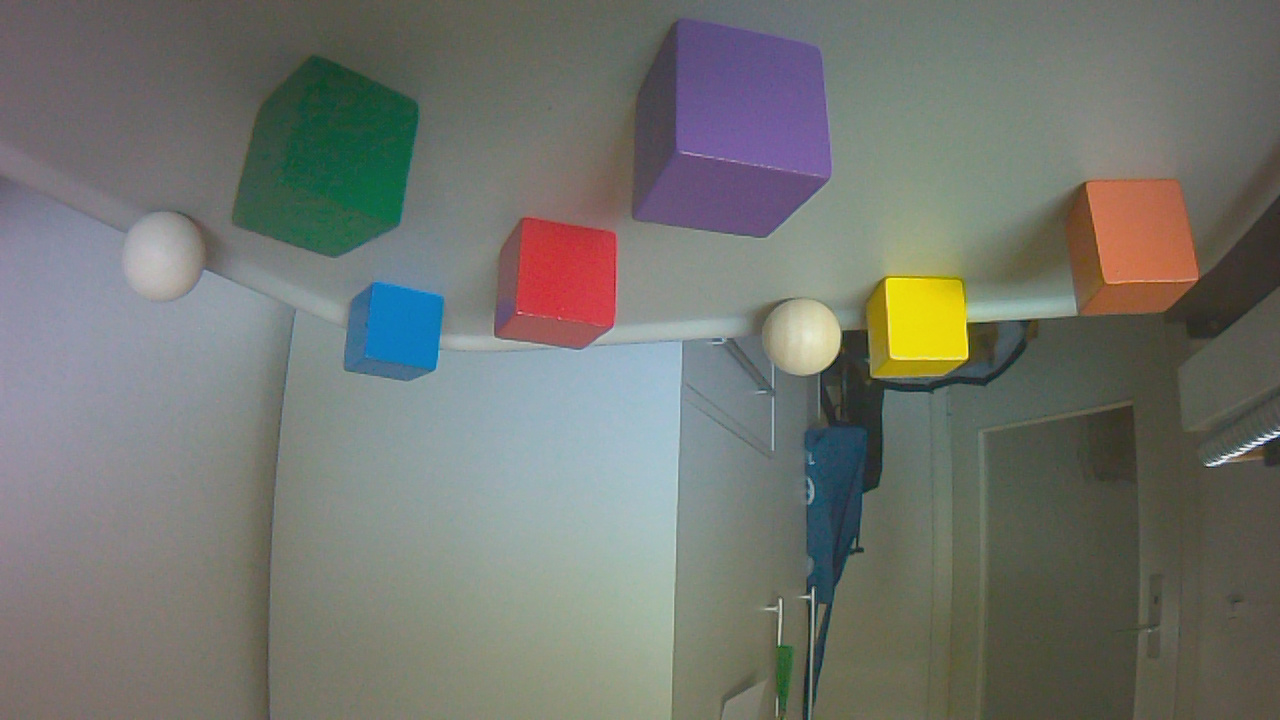ball: (124, 214, 213, 309), (764, 300, 847, 384)
cube_blue: (346, 283, 453, 388)
cube_green: (235, 59, 426, 265)
cube_orange: (1067, 181, 1205, 323)
cube_purple: (635, 20, 837, 245)
cube_red: (496, 221, 625, 356)
cube_yellow: (868, 279, 975, 387)
